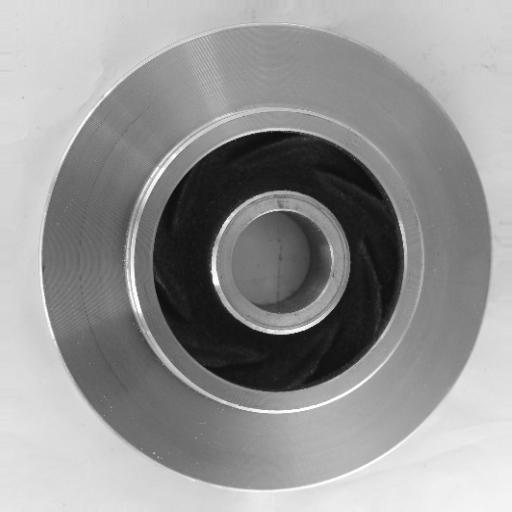polished_casting: (38, 21, 494, 493)
